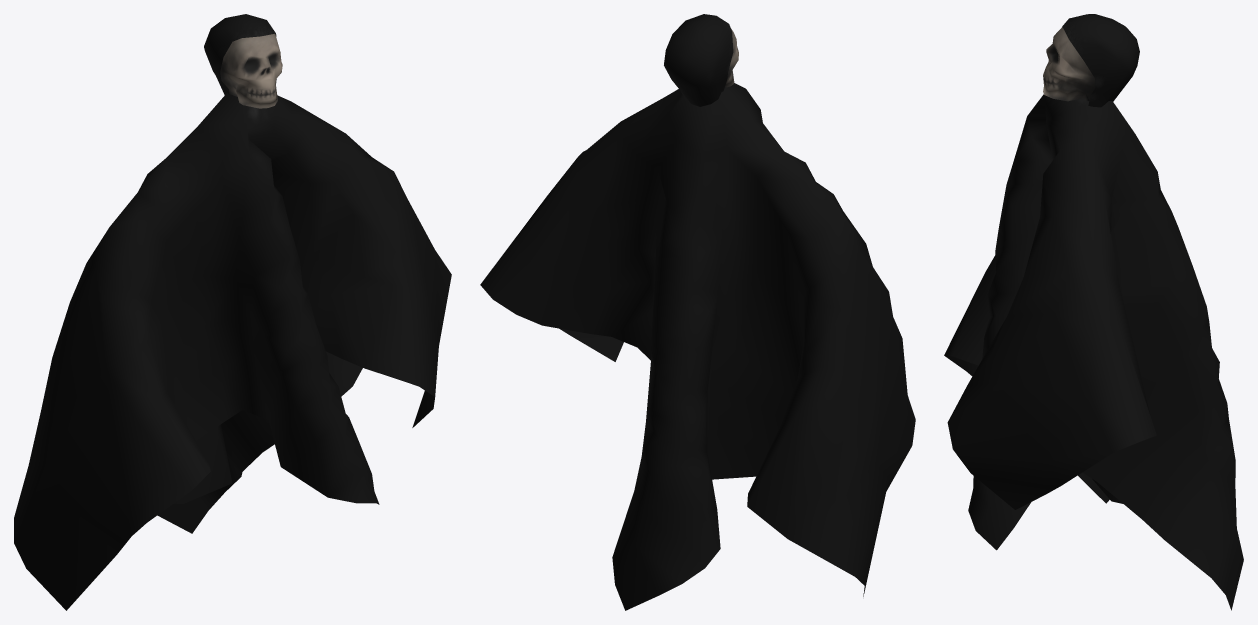
File: HW_hanginGhost.fbx
The picture shows the model from 3 angles, left to right: view 1: azimuth 30°, elevation 25°; view 2: azimuth 150°, elevation 25°; view 3: azimuth 270°, elevation 25°; orthographic projection. The views are drawn at different scales.
Visible parts, largest first — view 1: HW_hanginGhost; view 2: HW_hanginGhost; view 3: HW_hanginGhost.
Boxes of the visible parts, box(x1,y1,x2,y2) form: HW_hanginGhost: box(14, 14, 451, 610); HW_hanginGhost: box(480, 14, 915, 610); HW_hanginGhost: box(944, 14, 1243, 610).
Bounding box in the file's own units: 0.768 × 1.02 × 0.471.
Materials: 1 (1 with a texture image).
